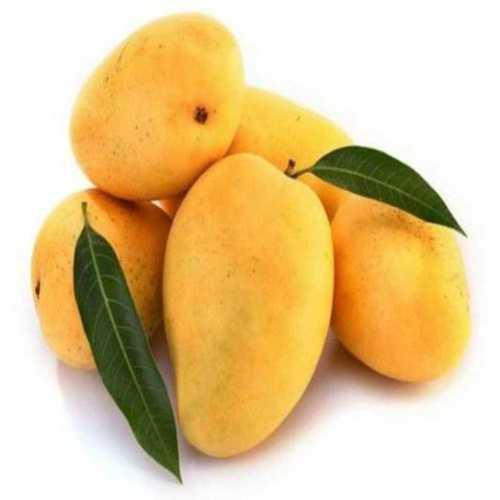xoai: (163, 155, 332, 458), (65, 10, 248, 204)
